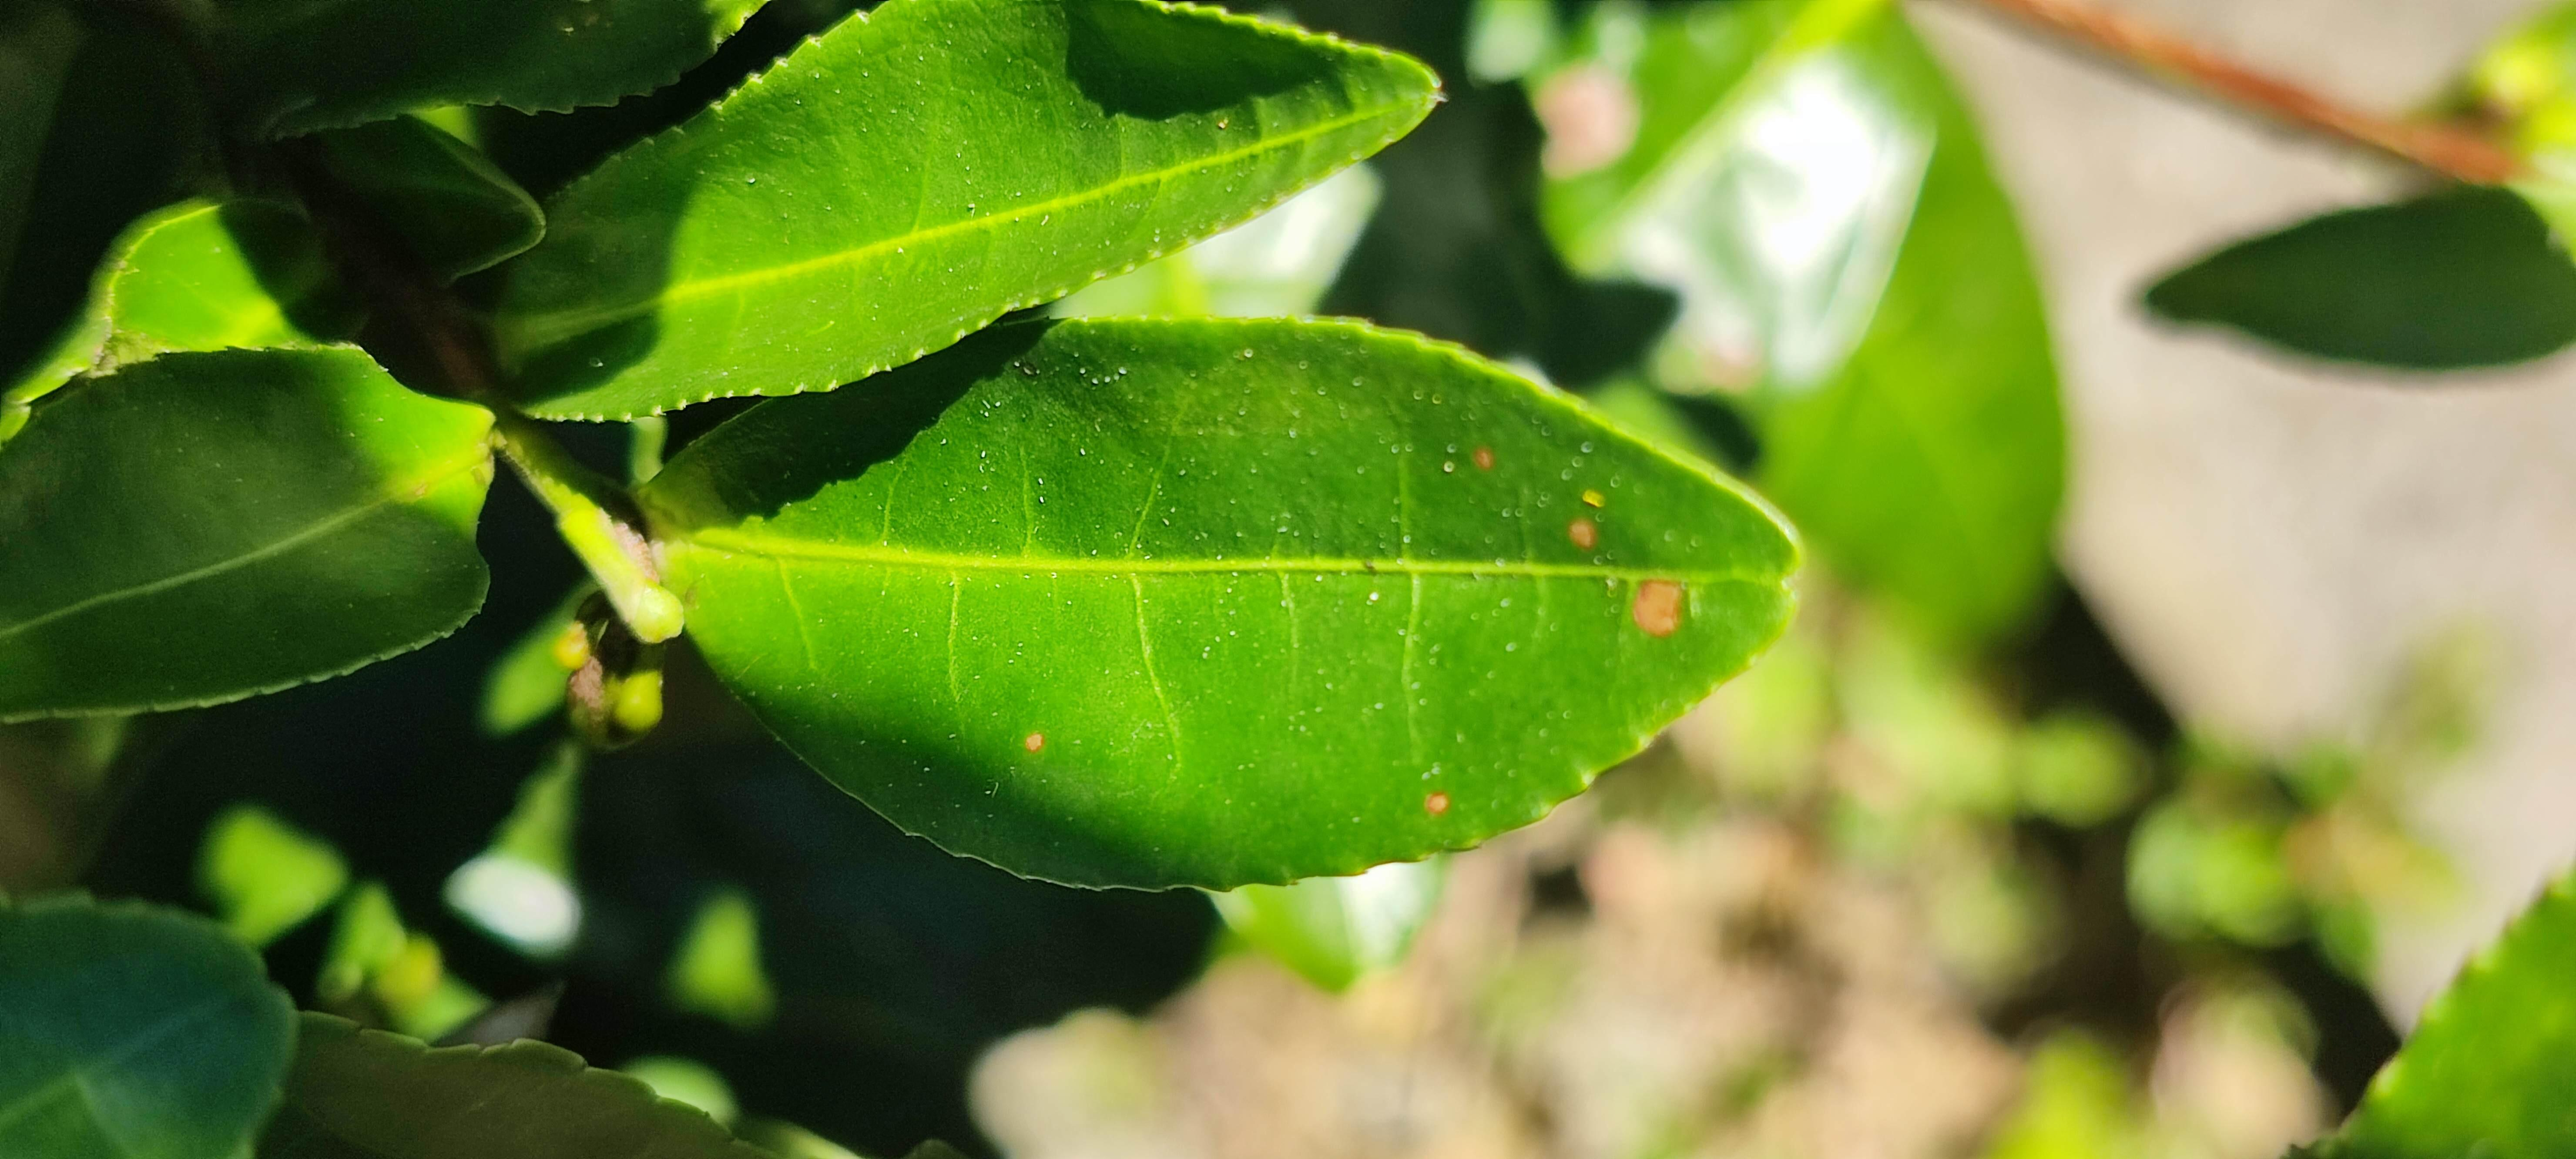healthy: (494, 3, 1447, 432), (0, 341, 504, 729)
tanju_low: (641, 312, 1814, 898)
